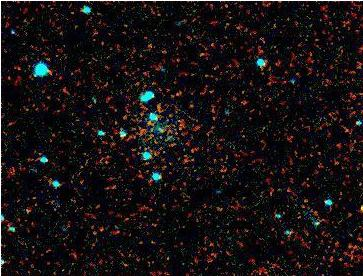star: (338, 189, 363, 219)
